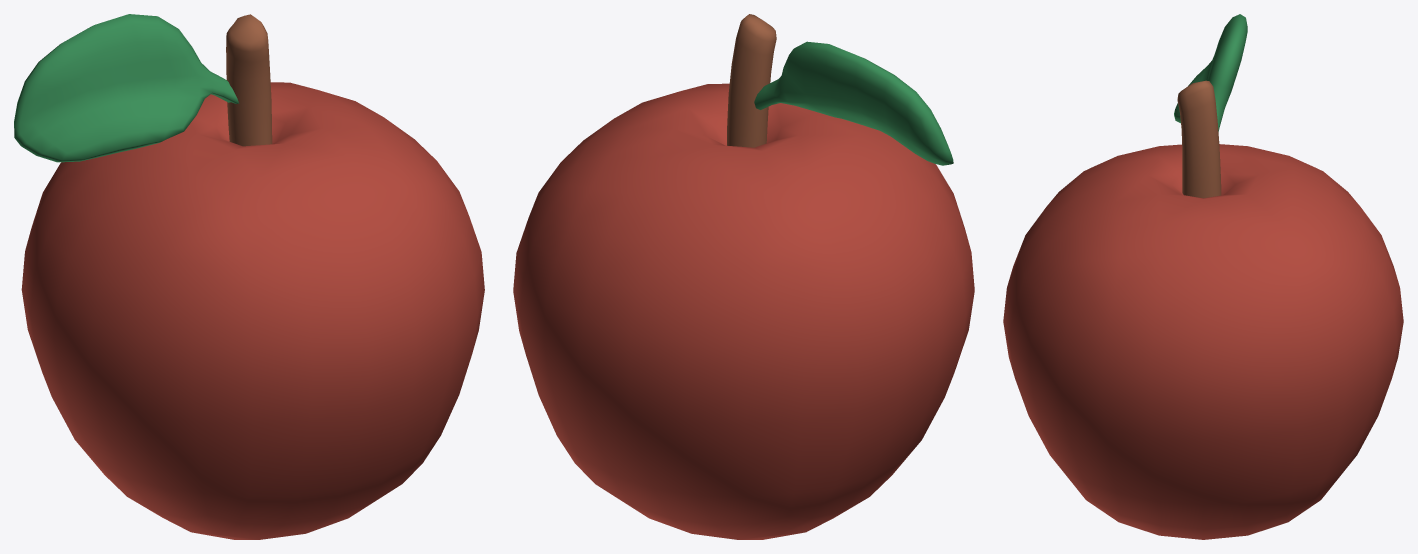
Rendered from Apple_01.dae.
3 renders of one model, left to right at view 1: azimuth 30°, elevation 25°; view 2: azimuth 150°, elevation 25°; view 3: azimuth 270°, elevation 25°, orthographic. The views are drawn at different scales.
Visible parts, largest first — view 1: Apple_01_LOD0; view 2: Apple_01_LOD0; view 3: Apple_01_LOD0.
Part boxes in pixels (left/top/right/bottom): Apple_01_LOD0: left=14, top=14, right=484, bottom=539; Apple_01_LOD0: left=513, top=14, right=974, bottom=539; Apple_01_LOD0: left=1003, top=14, right=1403, bottom=539.
Size of what is drawn, in the model's own units: 4.27 by 4.02 by 4.91.
